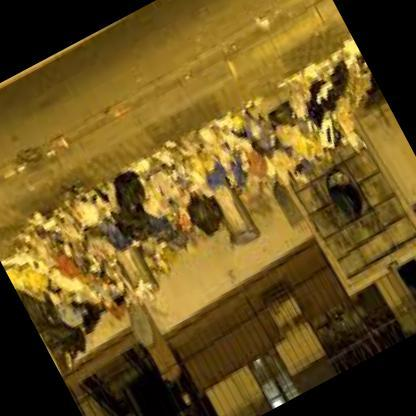Garbage: (204, 36, 405, 219), (87, 106, 240, 299), (0, 189, 116, 317), (314, 110, 372, 171), (240, 110, 295, 165), (42, 235, 94, 292), (188, 134, 238, 193), (65, 296, 120, 346), (156, 204, 204, 253), (98, 209, 136, 249), (134, 287, 158, 304)
